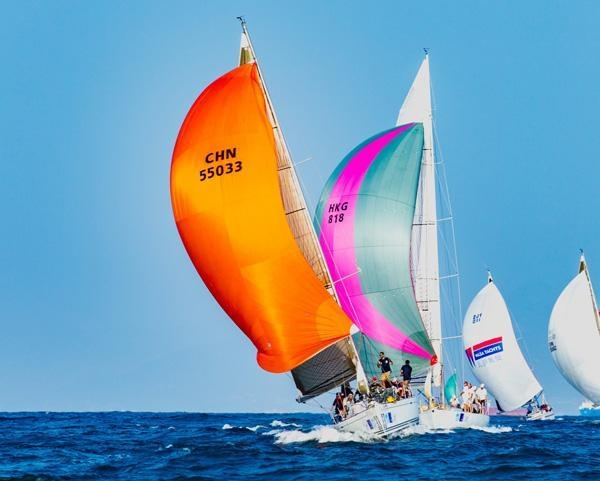fanchuan: (170, 12, 421, 426), (322, 45, 493, 434), (465, 271, 560, 422), (545, 246, 600, 417)
